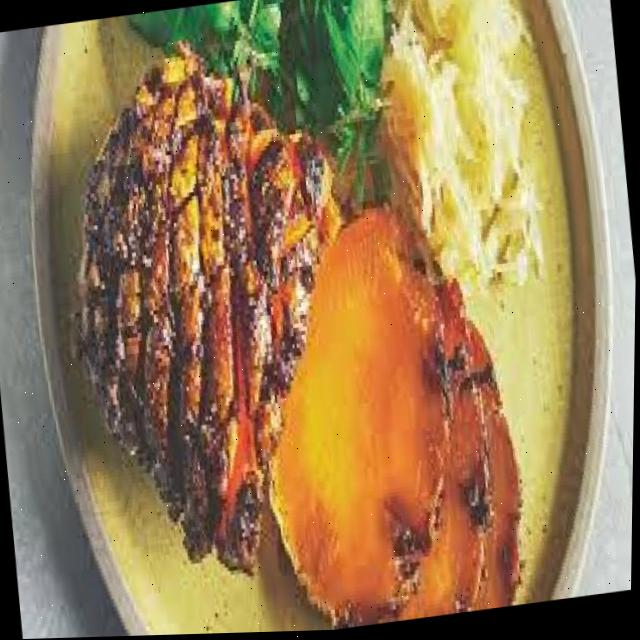Wet: (53, 0, 620, 639), (110, 0, 569, 325), (238, 208, 571, 634)
